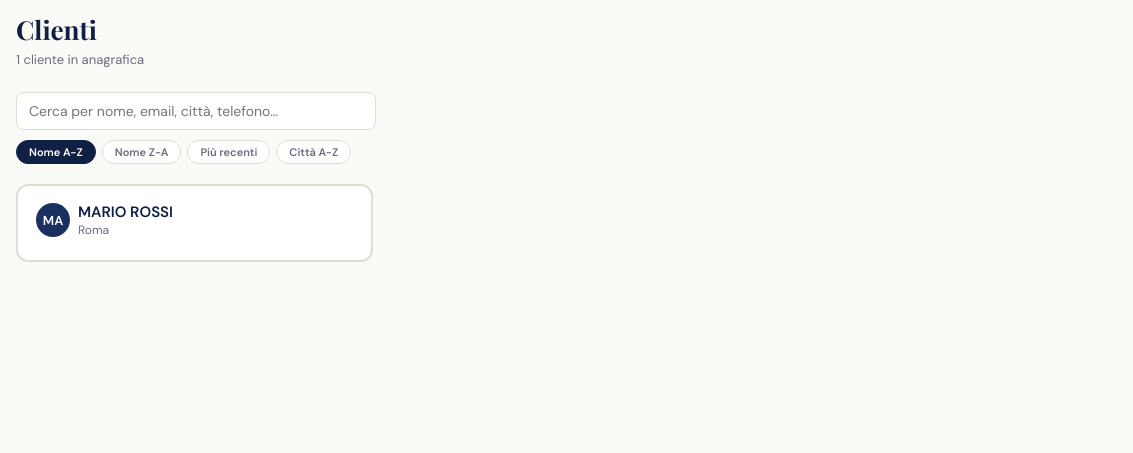
Scheda cliente — tab Liste viaggio › al Driver il tab non compare: resta il solo pannello Task
Click the text "MARIO ROSSI". click: (126, 212)
box: [78,202,173,222]
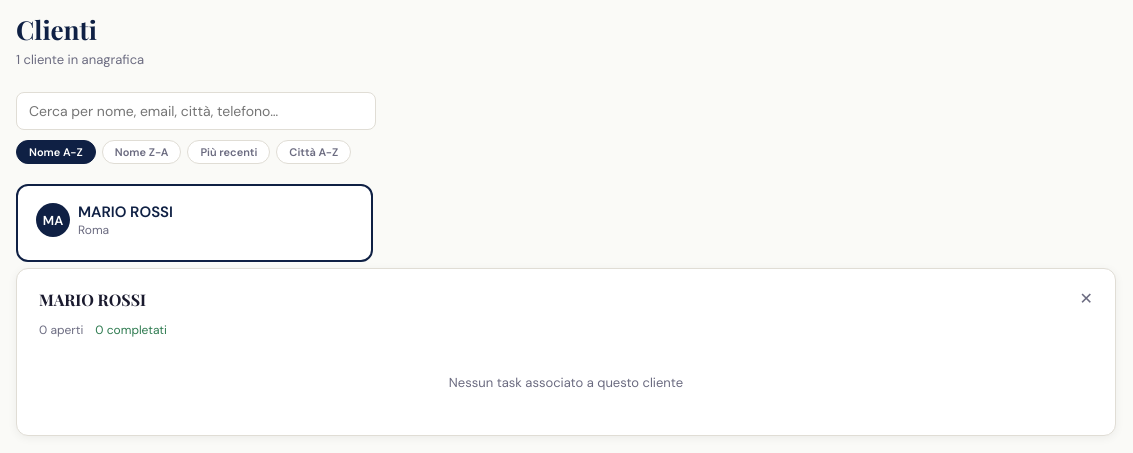
Result: the text "Nessun task associato a questo cliente" is shown at [449,374,683,391]
